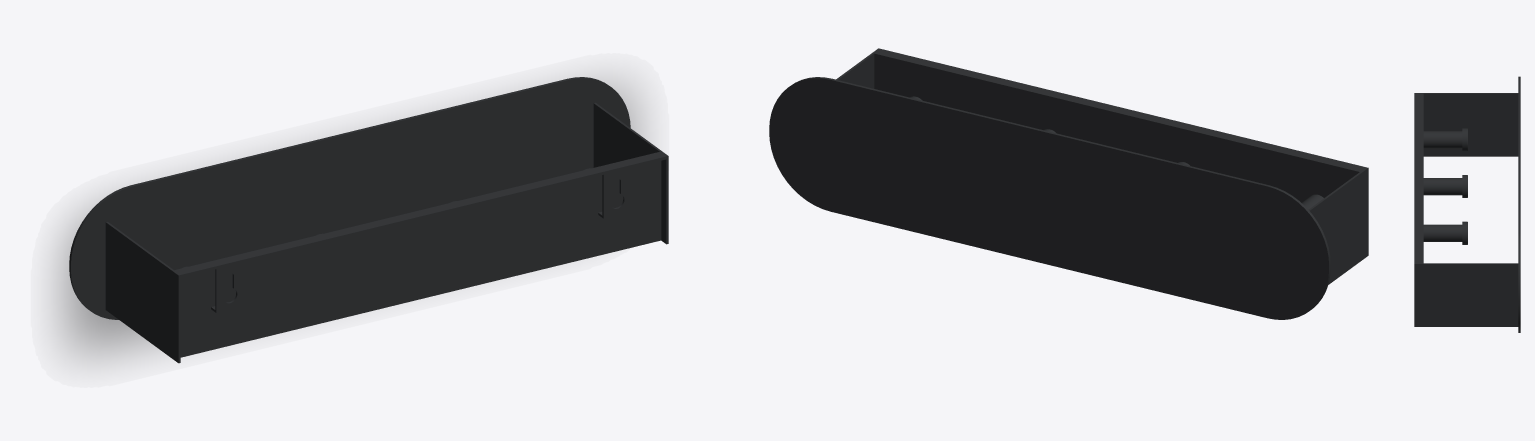
Rendered from round-hook.ced8acb793.ar.glb.
The picture shows the model from 3 angles, left to right: view 1: azimuth 30°, elevation 25°; view 2: azimuth 150°, elevation 25°; view 3: azimuth 270°, elevation 25°; orthographic projection. The views are drawn at different scales.
Parts seen in each view (by area): view 1: NAUO1, object 2; view 2: NAUO1; view 3: NAUO1.
Boxes of the visible parts, left/top/right/bottom form: NAUO1: left=69, top=77, right=668, bottom=363; object 2: left=58, top=84, right=641, bottom=356; NAUO1: left=769, top=48, right=1368, bottom=319; NAUO1: left=1414, top=76, right=1520, bottom=332.
Bounding box in the file's own units: 0.48 × 0.17 × 0.092.
2 materials, 1 textured.
